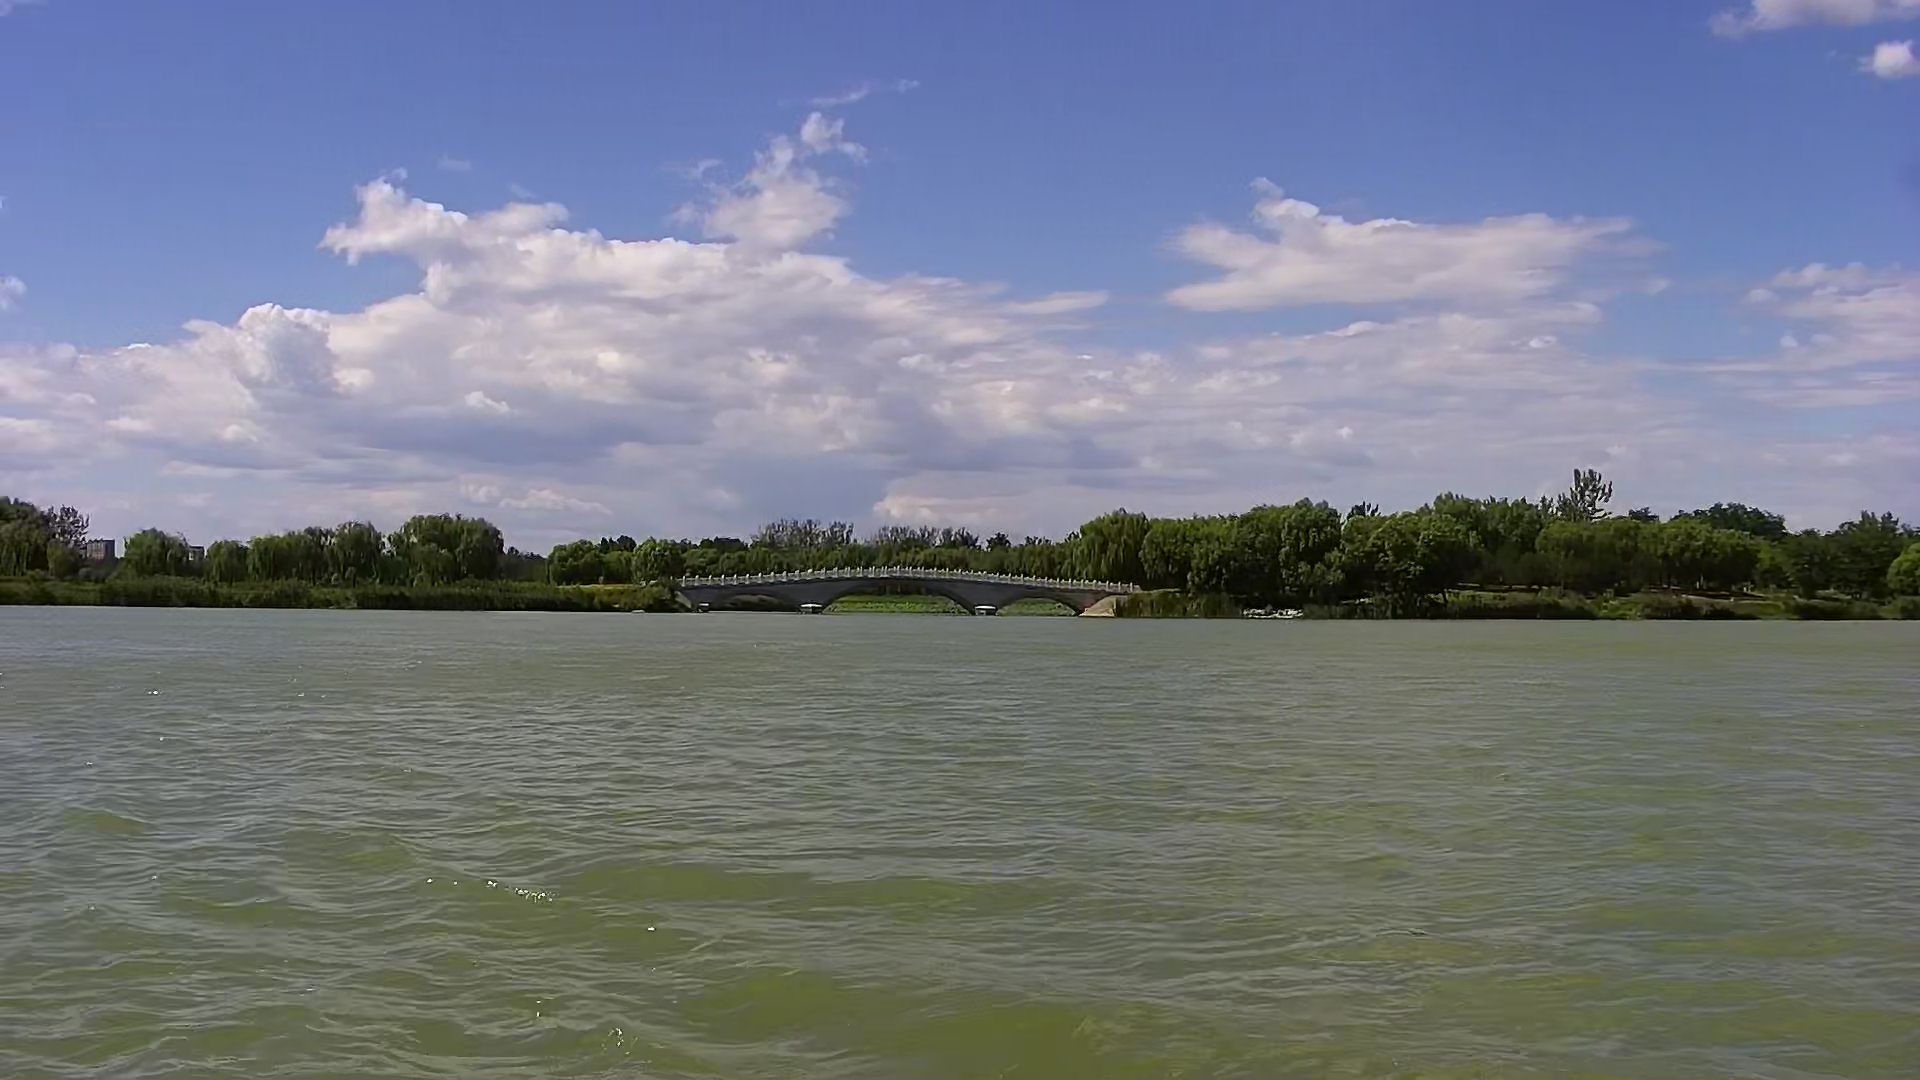bridge: (669, 558, 1155, 632)
